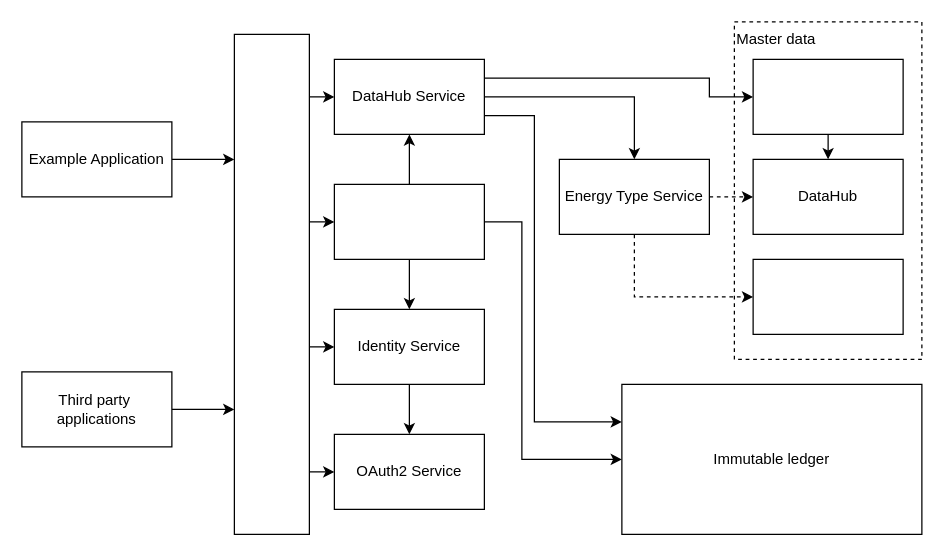
Some shapes in this 944 by 556 pixel diagram are drawn without their labels. The shapes that lost their labels are listed below. From the top down, each one's centre as x and y in pixels, then its label:
At point (827, 96): "ElOverblik".
At point (408, 221): "Account Service".
At point (271, 283): "API".
At point (827, 296): "Emissions Data".
